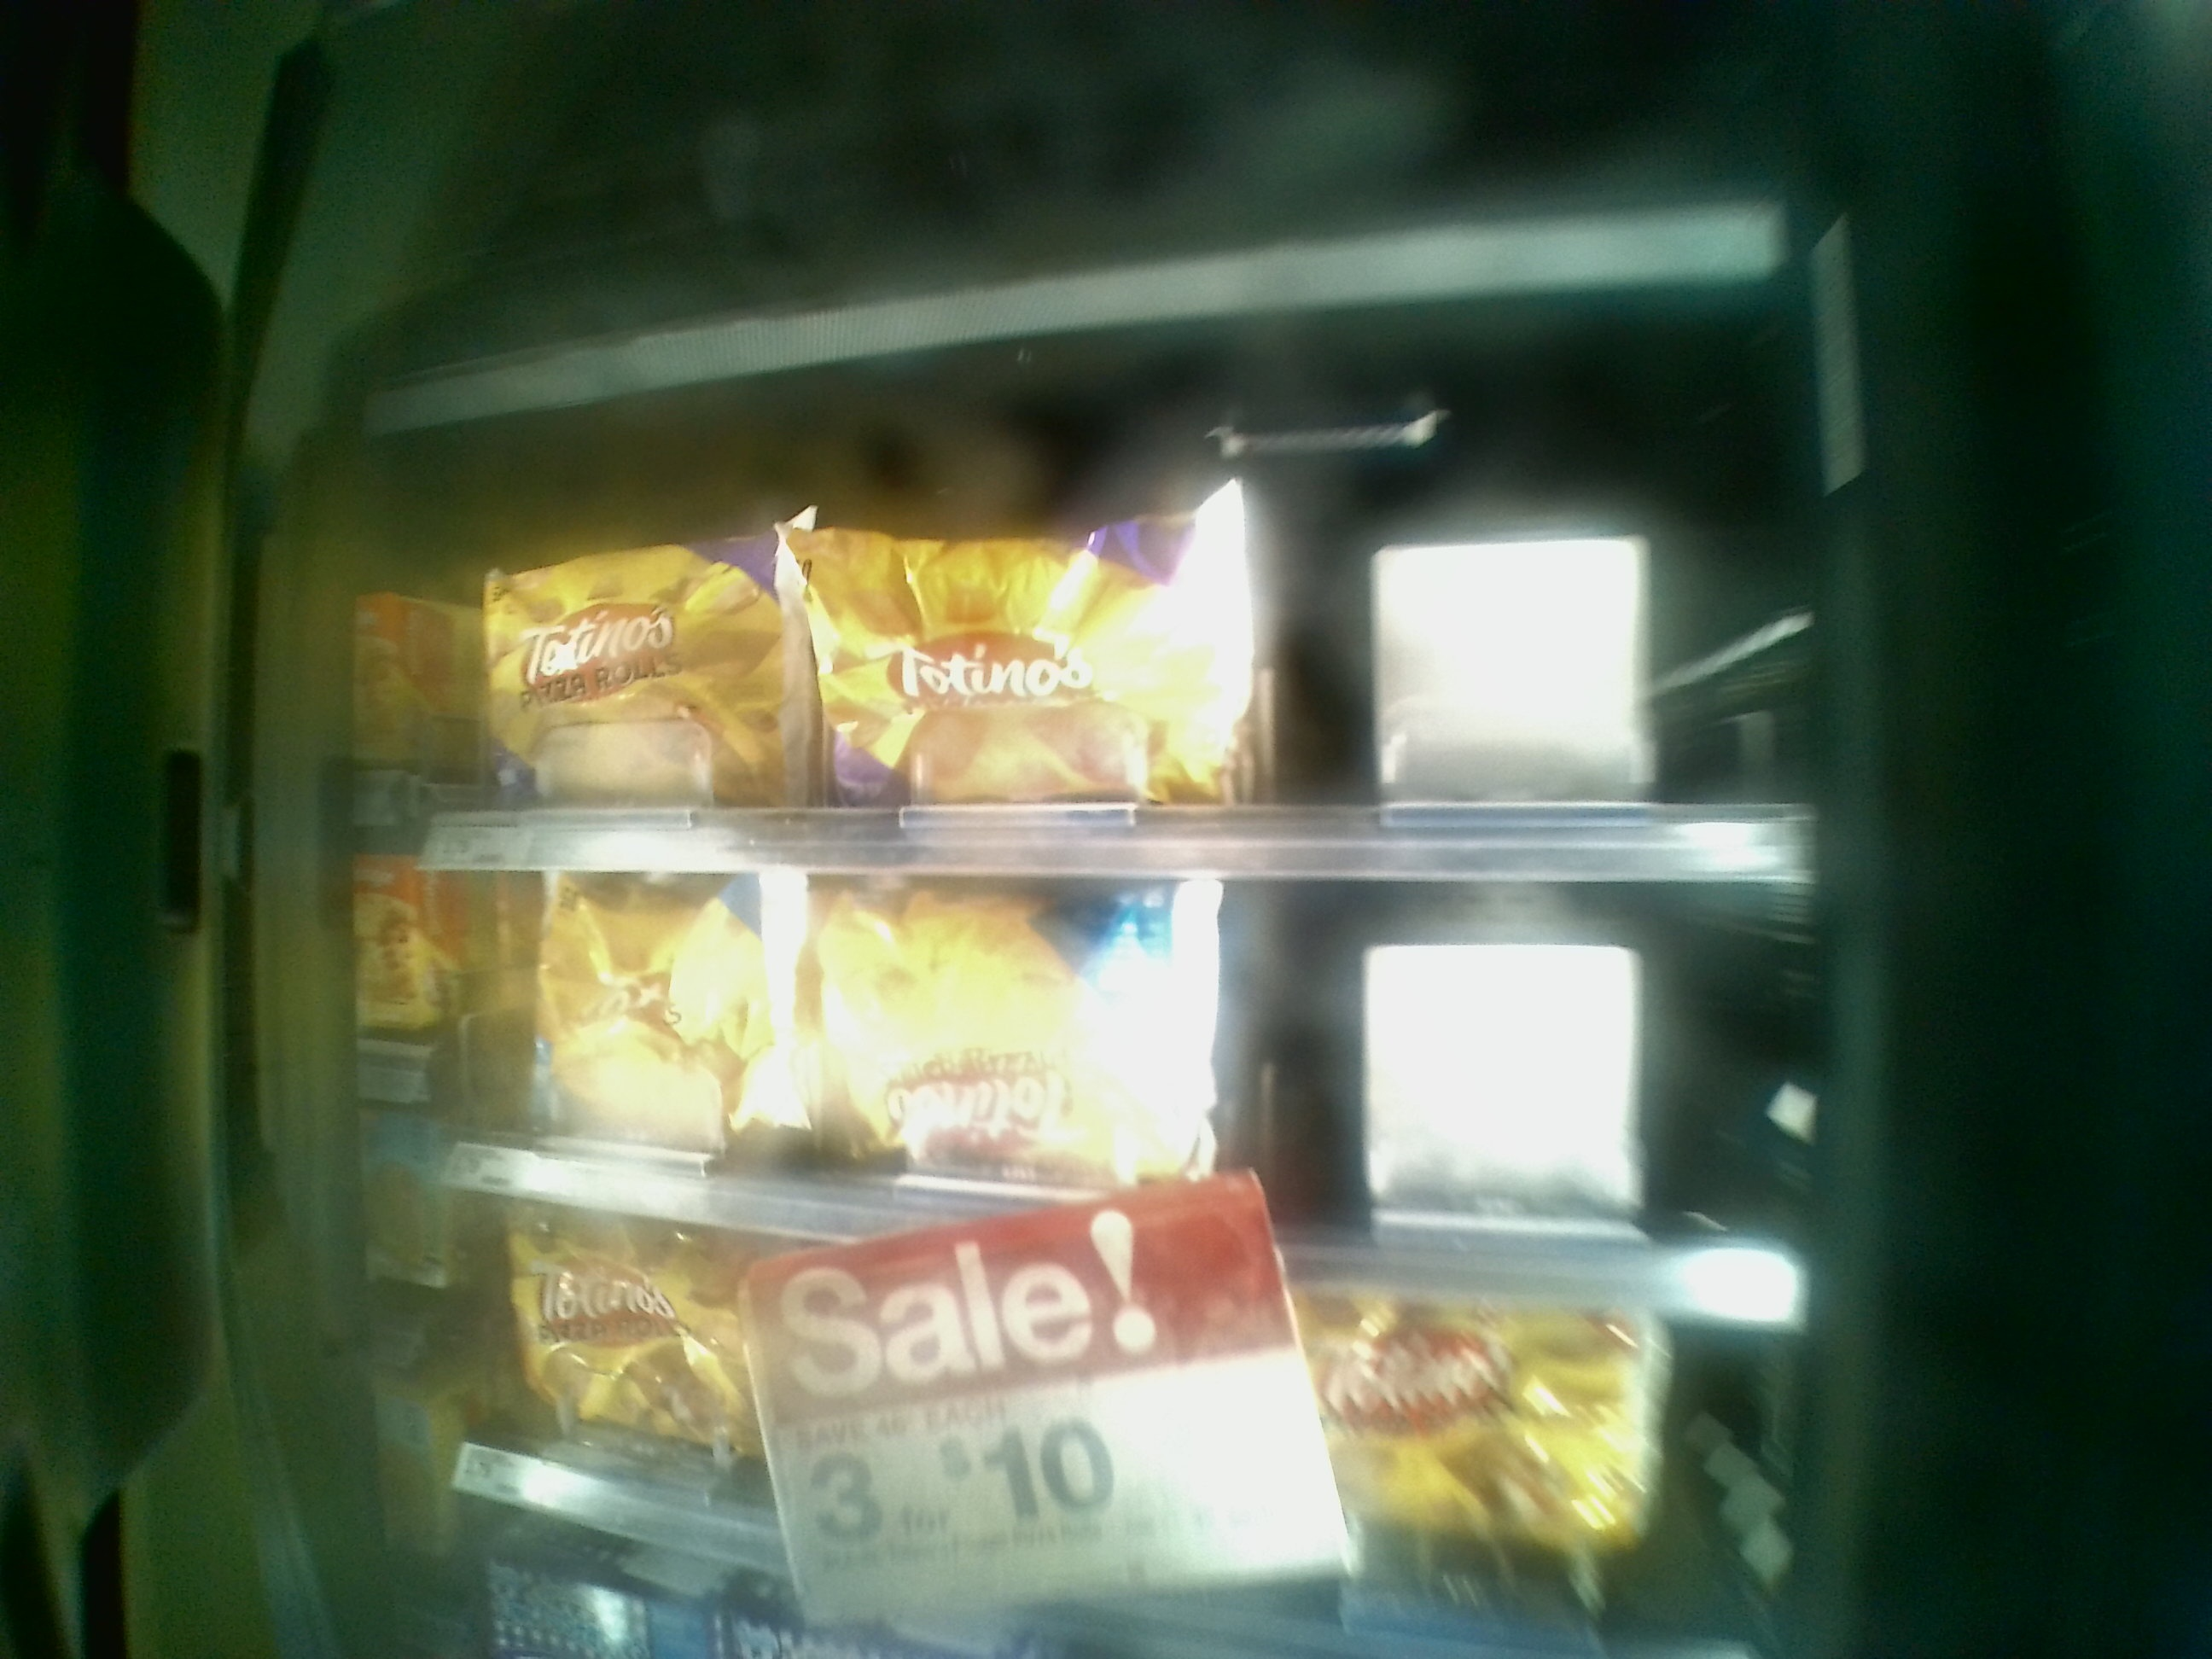shelf: (418, 845, 1806, 1321), (374, 415, 1815, 828)
